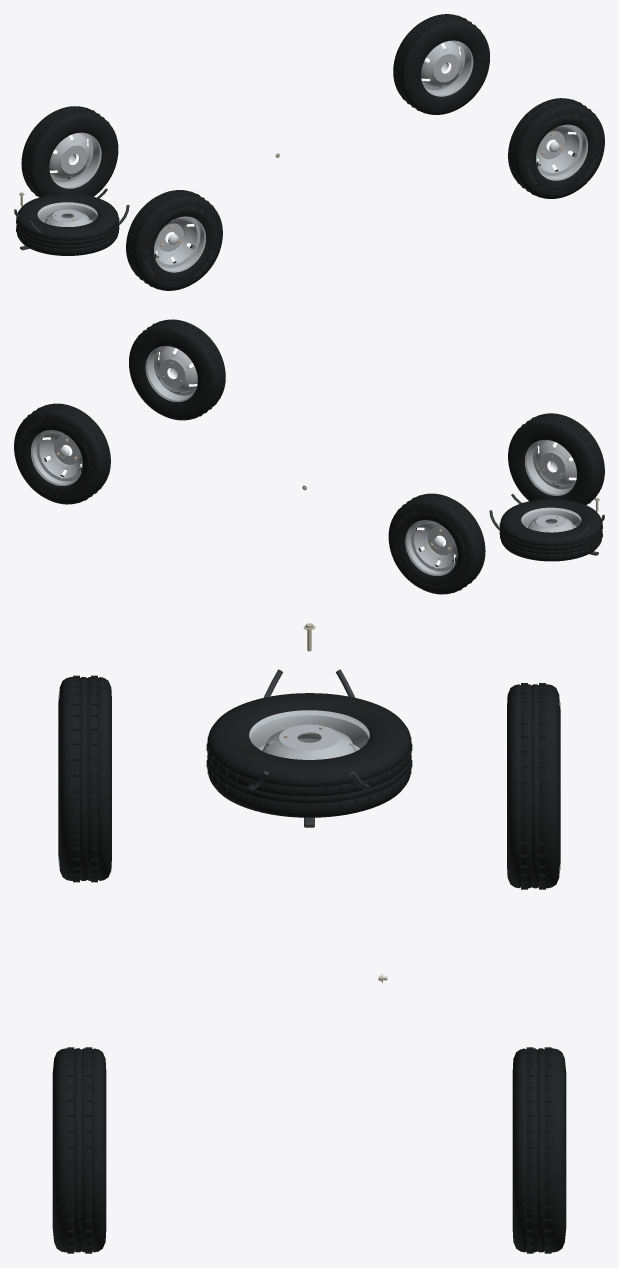
The model's file is chassis.glb.
3 views of the same model, one above another, from view 1: azimuth 30°, elevation 25°; view 2: azimuth 150°, elevation 25°; view 3: azimuth 270°, elevation 25° (orthographic). The views are drawn at different scales.
Visible parts, largest first — view 1: roues.pneu.001, roues.pneu.003, roue-secours.pneu, roues.pneu, roues.pneu.002, roues.jante.003, roues.jante.001, roues.jante, roues.jante.002, roues.flanc-pneu, roues.flanc-pneu.002, roue-secours.jante; view 2: roues.pneu, roues.pneu.002, roue-secours.pneu, roues.pneu.003, roues.pneu.001, roues.jante.002, roues.jante, roues.jante.003, roues.jante.001, roues.flanc-pneu.003, roues.flanc-pneu.001, roue-secours.jante; view 3: roue-secours.pneu, roues.pneu, roues.pneu.001, roues.pneu.003, roues.pneu.002, roue-secours.jante, roues.caoutchouc, roues.caoutchouc.001, roue-secours.caoutchouc, roues.caoutchouc.003.
Part boxes in pixels (x1,y1,x2,y2): roues.pneu.001: [393, 14, 489, 114]; roues.pneu.003: [21, 106, 118, 197]; roue-secours.pneu: [16, 193, 118, 255]; roues.pneu: [508, 98, 604, 198]; roues.pneu.002: [126, 190, 222, 290]; roues.jante.003: [49, 132, 101, 188]; roues.jante.001: [421, 40, 473, 96]; roues.jante: [536, 124, 588, 180]; roues.jante.002: [154, 216, 205, 272]; roues.flanc-pneu: [525, 112, 601, 194]; roues.flanc-pneu.002: [143, 204, 219, 286]; roue-secours.jante: [37, 202, 97, 226]; roues.pneu: [129, 319, 225, 420]; roues.pneu.002: [508, 413, 604, 504]; roue-secours.pneu: [500, 499, 602, 561]; roues.pneu.003: [388, 493, 485, 594]; roues.pneu.001: [14, 403, 110, 504]; roues.jante.002: [524, 440, 576, 495]; roues.jante: [145, 346, 197, 401]; roues.jante.003: [405, 520, 457, 575]; roues.jante.001: [30, 430, 82, 485]; roues.flanc-pneu.003: [392, 508, 468, 589]; roues.flanc-pneu.001: [17, 418, 93, 499]; roue-secours.jante: [521, 507, 581, 532]; roue-secours.pneu: [207, 693, 411, 817]; roues.pneu: [53, 1048, 106, 1252]; roues.pneu.001: [512, 1048, 565, 1252]; roues.pneu.003: [507, 684, 559, 888]; roues.pneu.002: [59, 677, 111, 880]; roue-secours.jante: [249, 710, 369, 759]; roues.caoutchouc: [67, 1047, 92, 1253]; roues.caoutchouc.001: [526, 1047, 551, 1253]; roue-secours.caoutchouc: [206, 737, 412, 810]; roues.caoutchouc.003: [521, 683, 545, 889].
Bounding box in the file's own units: 3.37 × 0.5736 × 1.43.
10 materials, 1 textured.
